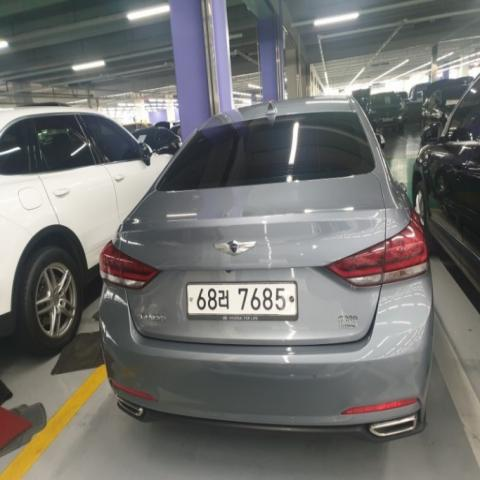LP: (181, 273, 302, 324)
